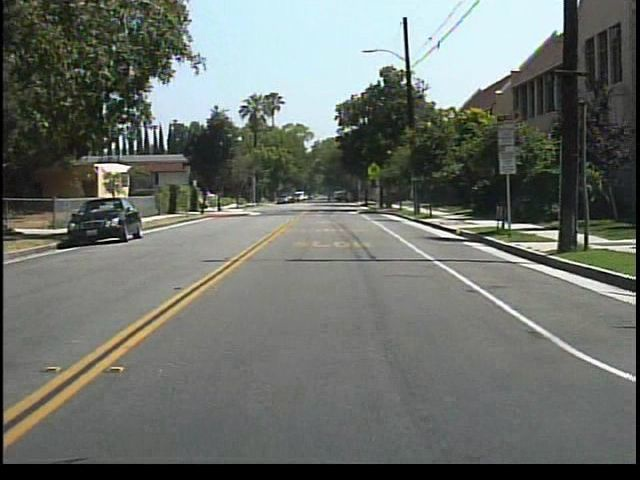person: (323, 187, 338, 205)
